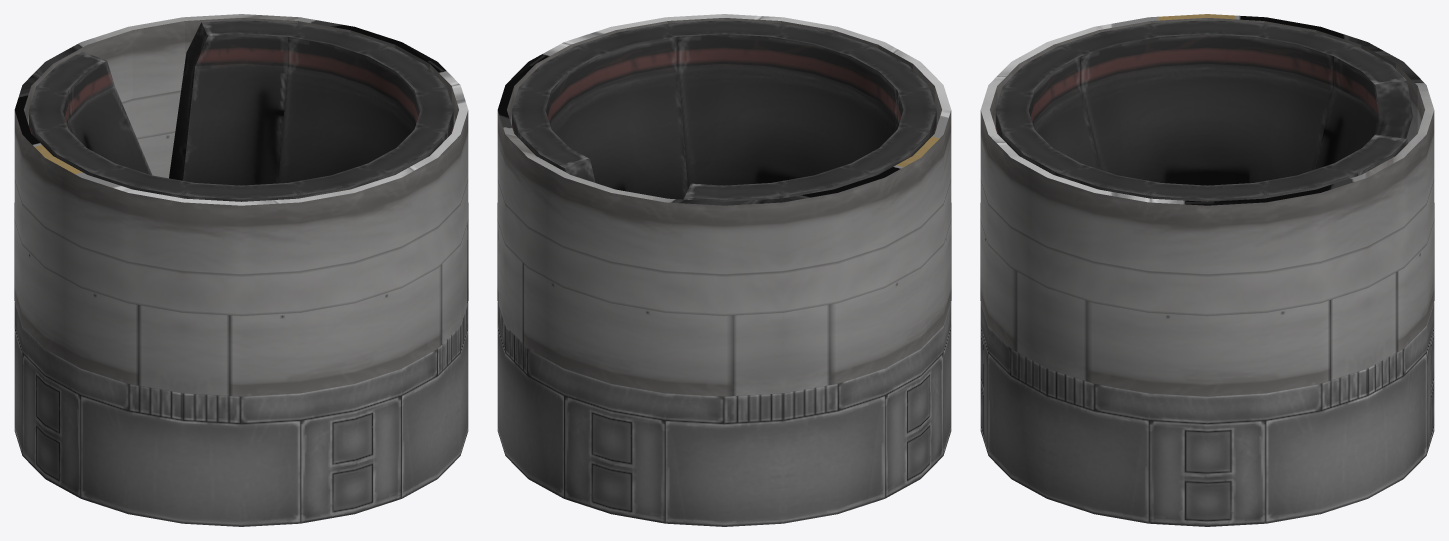
Rendered from AgenaDockingPort.dae.
The picture shows the model from 3 angles, left to right: view 1: azimuth 30°, elevation 25°; view 2: azimuth 150°, elevation 25°; view 3: azimuth 270°, elevation 25°; orthographic projection.
Parts seen in each view (by area): view 1: AgenaDockingPort5, fairing; view 2: AgenaDockingPort5, fairing; view 3: AgenaDockingPort5, fairing.
Part boxes in pixels (<box>): AgenaDockingPort5: <box>14,20,468,526</box>; fairing: <box>14,14,468,396</box>; AgenaDockingPort5: <box>497,20,951,526</box>; fairing: <box>497,14,951,396</box>; AgenaDockingPort5: <box>980,20,1434,526</box>; fairing: <box>980,14,1434,396</box>.
Size of the model in its own units: 0.9389 by 0.7327 by 0.9389.
